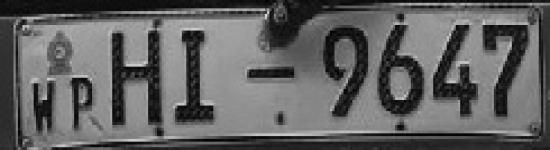-: (238, 59, 302, 87)
4: (430, 18, 481, 121)
6: (373, 20, 429, 121)
7: (481, 16, 536, 122)
9: (318, 22, 373, 126)
H: (102, 23, 170, 131)
I: (170, 24, 225, 133)
P: (66, 72, 99, 135)
W: (26, 76, 62, 138)
